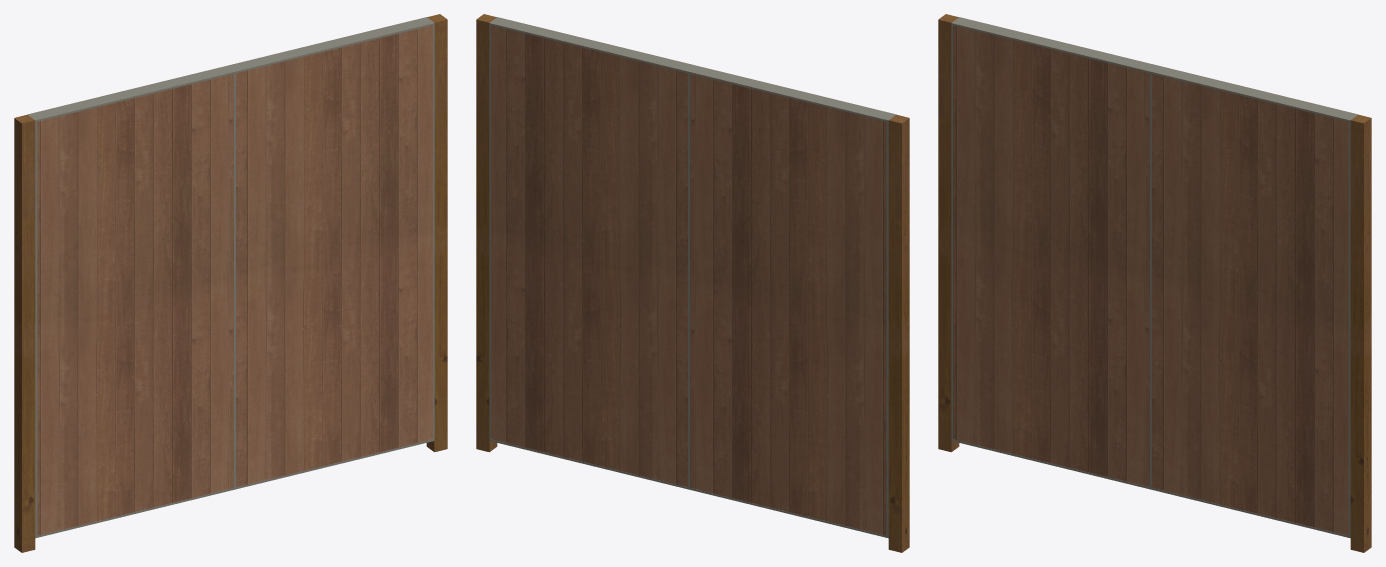
The model's file is ABF5-H1800_jara.fbx.
The picture shows the model from 3 angles, left to right: view 1: azimuth 30°, elevation 25°; view 2: azimuth 150°, elevation 25°; view 3: azimuth 330°, elevation 25°; orthographic projection.
Visible parts, largest first — view 1: ABF5-H1800_jara; view 2: ABF5-H1800_jara; view 3: ABF5-H1800_jara.
Boxes of the visible parts, box(x1,y1,x2,y2) form: ABF5-H1800_jara: box(14, 14, 447, 552); ABF5-H1800_jara: box(476, 14, 909, 552); ABF5-H1800_jara: box(938, 14, 1371, 552).
Size of the model in its own units: 192 by 185 by 6.4.
5 materials, 4 textured.
